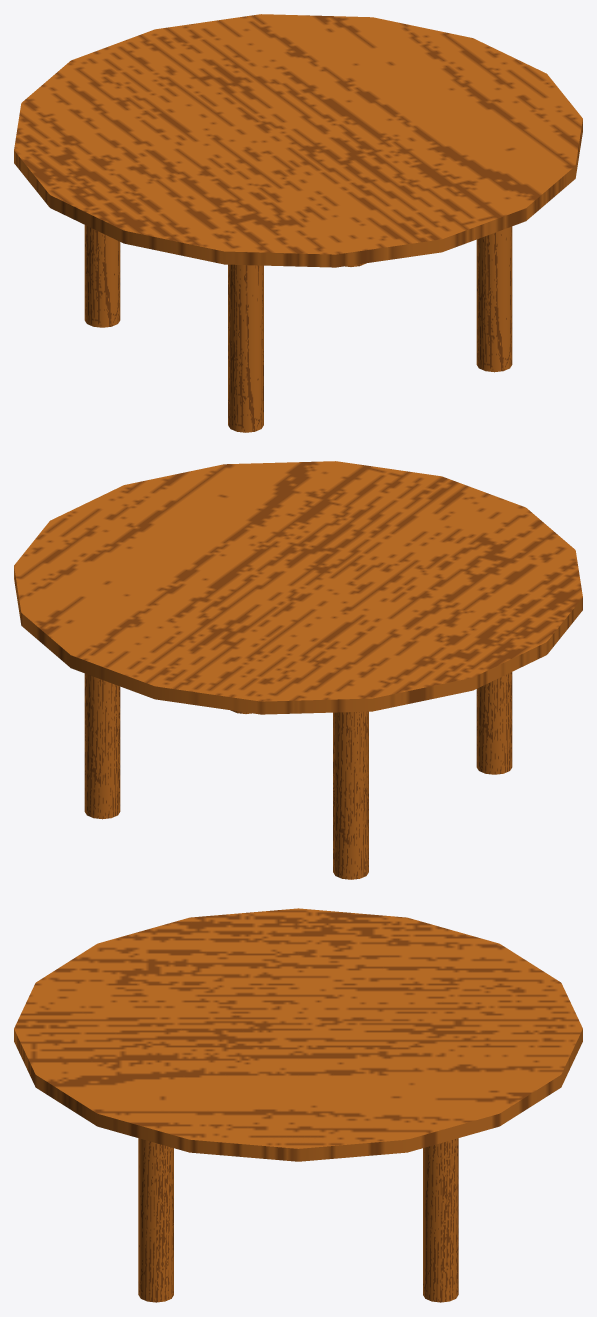
Rendered from DinnerWoodenTable.obj.
The picture shows the model from 3 angles, top to bottom: view 1: azimuth 30°, elevation 25°; view 2: azimuth 150°, elevation 25°; view 3: azimuth 270°, elevation 25°; orthographic projection.
Visible parts, largest first — view 1: mesh01, mesh02, mesh03, mesh04; view 2: mesh01, mesh04, mesh05, mesh02; view 3: mesh01, mesh03, mesh05.
Boxes of the visible parts, x1,y1,x2,y2 form: mesh01: [14, 14, 582, 267]; mesh02: [228, 264, 263, 432]; mesh03: [476, 226, 512, 372]; mesh04: [84, 225, 120, 327]; mesh01: [14, 461, 582, 714]; mesh04: [333, 711, 368, 879]; mesh05: [84, 673, 120, 819]; mesh02: [476, 672, 512, 774]; mesh01: [14, 908, 582, 1161]; mesh03: [138, 1138, 173, 1302]; mesh05: [423, 1138, 458, 1302].
Size of the model in its own units: 8 by 3.2 by 8.
Materials: 1 (1 with a texture image).
